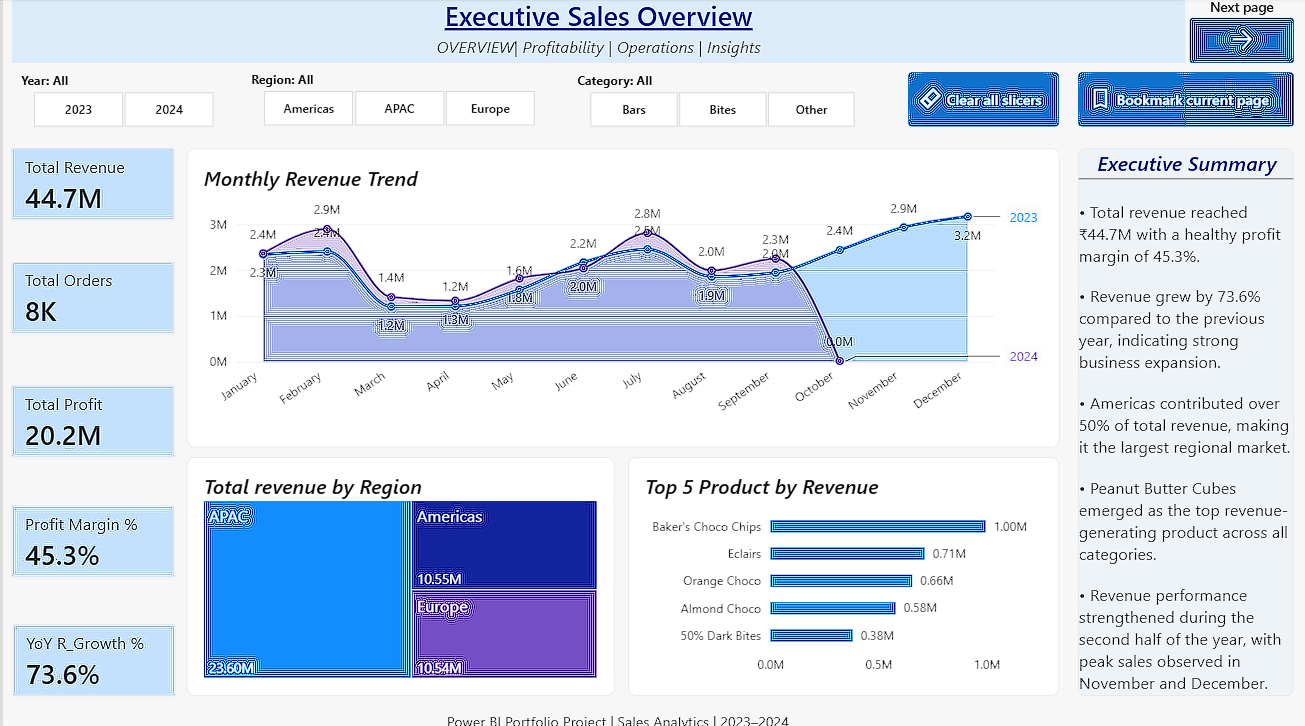

This screenshot's page, from the dashboard's own definition file:
{"tool":"powerbi","page":{"name":"Executive Sales Overview","canvas":[1280,720],"ordinal":1},"visuals":[{"type":"textbox","title":"Executive Sales Overview","box":[8.7,0,1152.2,64.6],"z":0},{"type":"cardVisual","fields":{"Data":["calendar.Total revenue"]},"box":[8.6,148.5,159.5,69.9],"z":1000},{"type":"cardVisual","fields":{"Data":["calendar.Total Orders"]},"box":[8.6,260.1,159.5,69.9],"z":2000},{"type":"cardVisual","fields":{"Data":["calendar.Total Profit"]},"box":[8.6,381.6,159.5,69.9],"z":3000},{"type":"cardVisual","fields":{"Data":["calendar.Profit Margin %"]},"box":[8.6,499.4,159.5,69.9],"z":4000},{"type":"cardVisual","fields":{"Data":["calendar.YoY Revenue Growth %"]},"box":[9.8,616,159.5,69.9],"z":5000},{"type":"slicer","fields":{"Values":["calendar.cal_date.Variation.Date Hierarchy.Year"]},"box":[10.1,73.4,216,55.2],"z":6000},{"type":"slicer","fields":{"Values":["locations.Region"]},"box":[235.6,72.4,305.5,55.2],"z":7000},{"type":"slicer","fields":{"Values":["products.Category"]},"box":[555.8,73.6,299.4,55.2],"z":8000},{"type":"lineChart","title":"Monthly Revenue Trend","fields":{"Category":["calendar.cal_date.Variation.Date Hierarchy.Month"],"Y":["calendar.Total revenue"],"Series":["calendar.cal_date.Variation.Date Hierarchy.Year"]},"box":[180.4,148.5,856.4,293.3],"z":9000},{"type":"treemap","title":"Total revenue by Region","fields":{"Values":["calendar.Total revenue"],"Group":["locations.Region"]},"box":[180.4,451.5,419.6,234.4],"z":10000},{"type":"clusteredBarChart","title":"Top 5 Product by Revenue","fields":{"Category":["products.Product"],"Y":["calendar.Total revenue"]},"box":[613.5,451.5,423.3,234.4],"z":11000},{"type":"actionButton","title":"Next page ","box":[1164.4,0,103.1,65],"z":12000},{"type":"actionButton","box":[888.3,73.6,148.5,54],"z":13000},{"type":"textbox","title":"Executive Summary","box":[1055.2,148.5,212.3,537.4],"z":14000},{"type":"textbox","box":[435.6,701.8,344.8,18.4],"z":15000},{"type":"actionButton","box":[1055.2,73.6,212.3,54],"z":16000}]}

Visuals, with their boxes in screenshot pixels (x1, y1, x2, y2), scaled from the page's 1280x720 canvas onto the 1305x726 screenshot:
"Executive Sales Overview" textbox: (9,0,1184,65)
cardVisual - calendar.Total revenue: (9,150,171,220)
cardVisual - calendar.Total Orders: (9,262,171,333)
cardVisual - calendar.Total Profit: (9,385,171,455)
cardVisual - calendar.Profit Margin %: (9,504,171,574)
cardVisual - calendar.YoY Revenue Growth %: (10,621,173,692)
slicer - calendar.cal_date.Variation.Date Hierarchy.Year: (10,74,231,130)
slicer - locations.Region: (240,73,552,129)
slicer - products.Category: (567,74,872,130)
"Monthly Revenue Trend" lineChart: (184,150,1057,445)
"Total revenue by Region" treemap: (184,455,612,692)
"Top 5 Product by Revenue" clusteredBarChart: (625,455,1057,692)
"Next page " actionButton: (1187,0,1292,66)
actionButton: (906,74,1057,129)
"Executive Summary" textbox: (1076,150,1292,692)
textbox: (444,708,796,725)
actionButton: (1076,74,1292,129)
